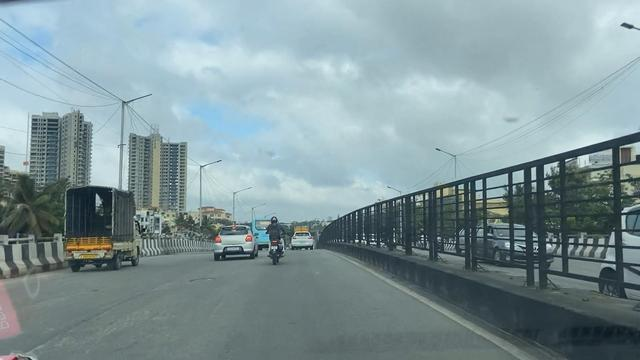HMV: (60, 182, 145, 276), (250, 203, 285, 253)
LMV: (209, 209, 262, 266), (247, 207, 289, 276), (290, 217, 322, 249)
RoadDamages: (177, 267, 227, 297)
